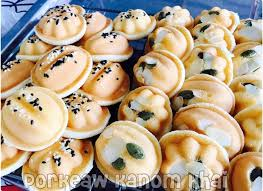kanomkai: (89, 116, 167, 188), (1, 85, 69, 153), (28, 42, 94, 100), (128, 46, 188, 104)
